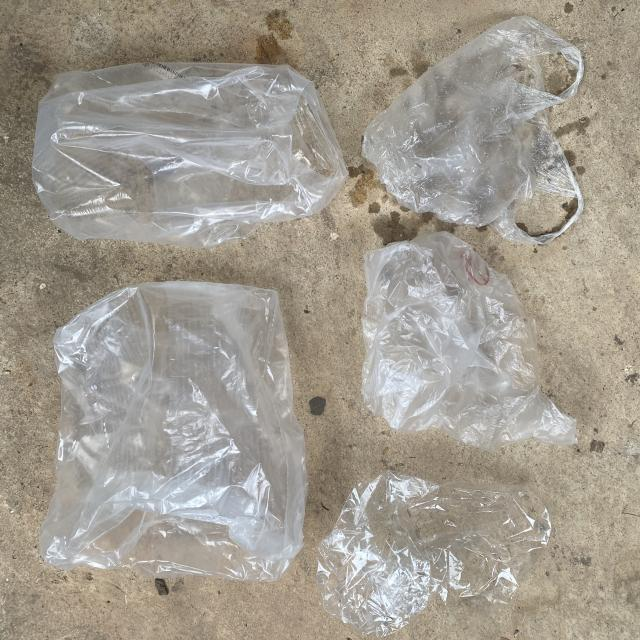Single-layer Plastic: (40, 281, 308, 581), (32, 62, 346, 248), (362, 16, 584, 245), (361, 232, 575, 451), (318, 471, 550, 635)
